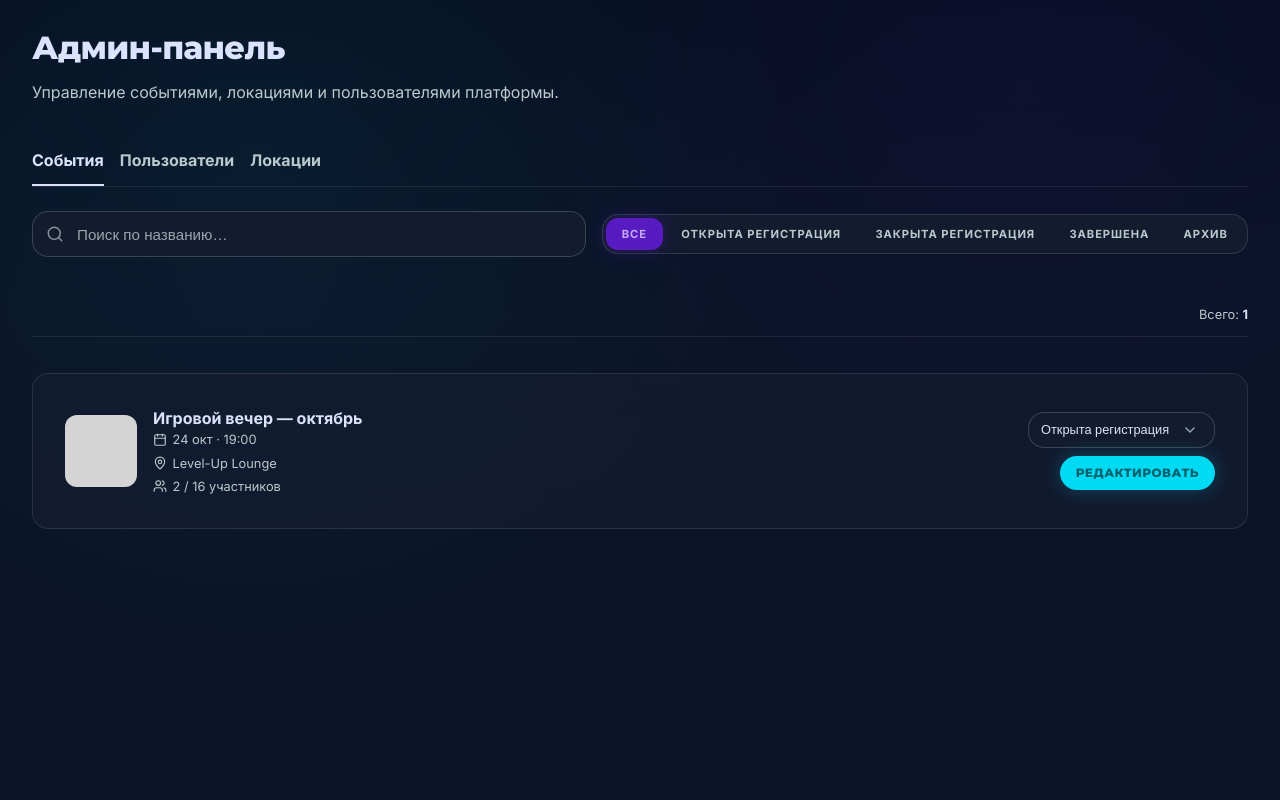
Scenario: AdminPage › switches to locations tab and filters by search
This screenshot has width=1280, height=800.
Click the tab "Локации": (286, 161) top-left (250, 136), bottom-right (321, 186)
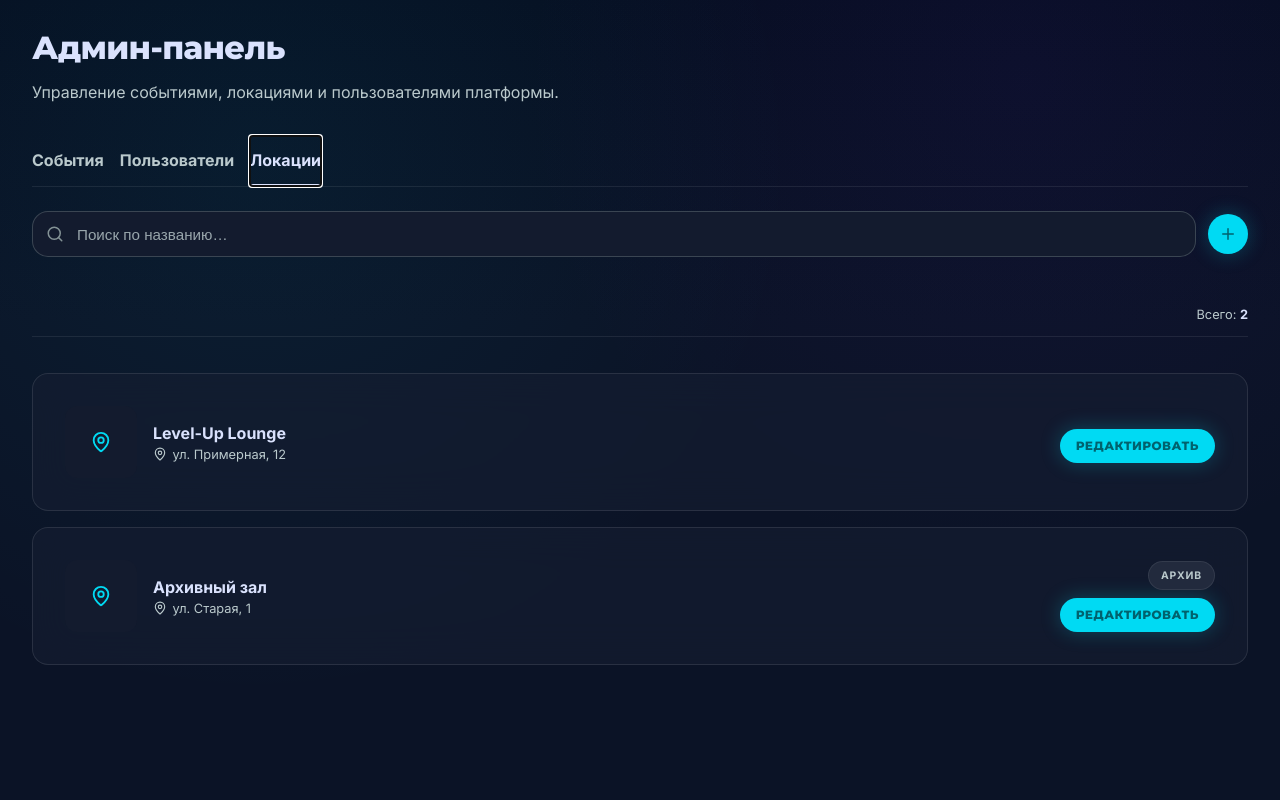
Expected: the text "Level-Up Lounge" is shown, top-left (153, 423), bottom-right (286, 443)
Expected: the text "Архивный зал" is shown, top-left (153, 577), bottom-right (267, 597)
Expected: the button named "Создать локацию" is shown, top-left (1208, 214), bottom-right (1248, 254)
In the field named "Поиск локаций": (614, 234) top-left (32, 211), bottom-right (1196, 257), type "Архив"
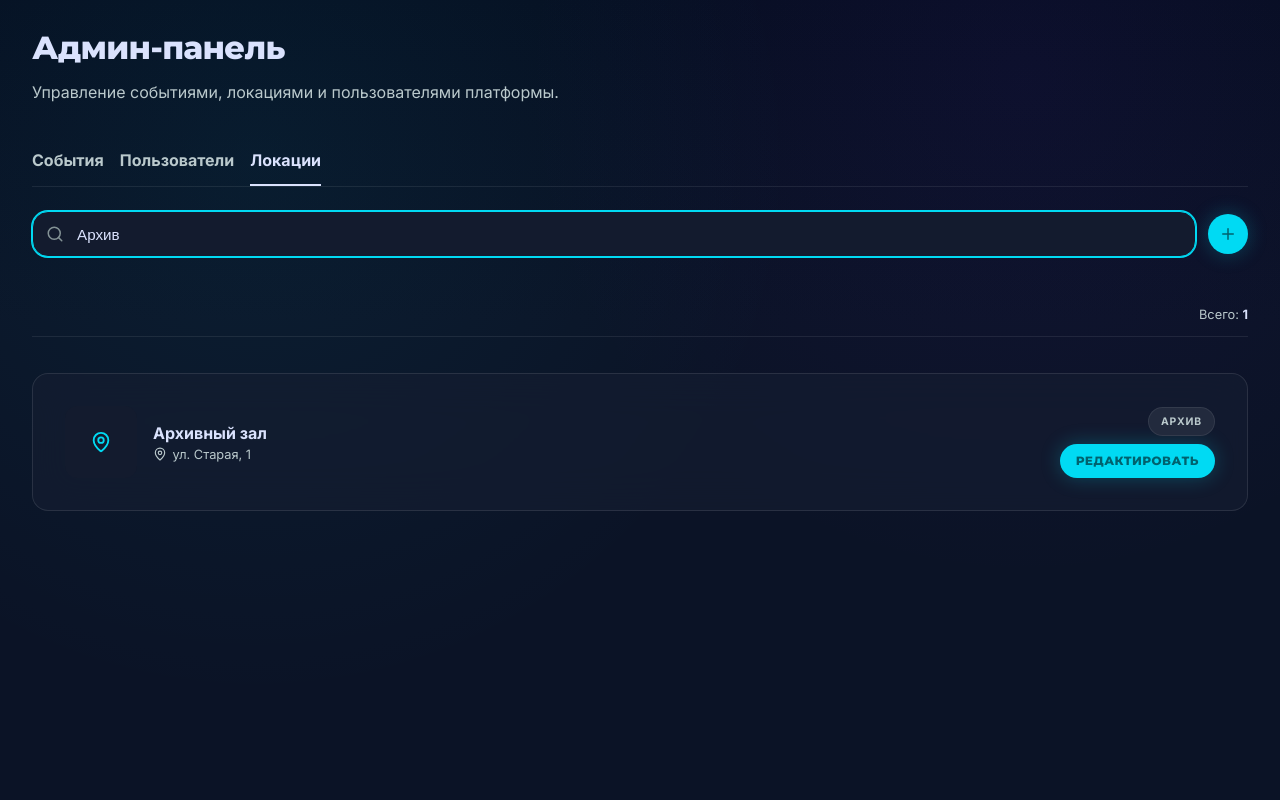
Expected: the text "Архивный зал" is shown, top-left (153, 423), bottom-right (267, 443)
Expected: the text "Level-Up Lounge" is gone
